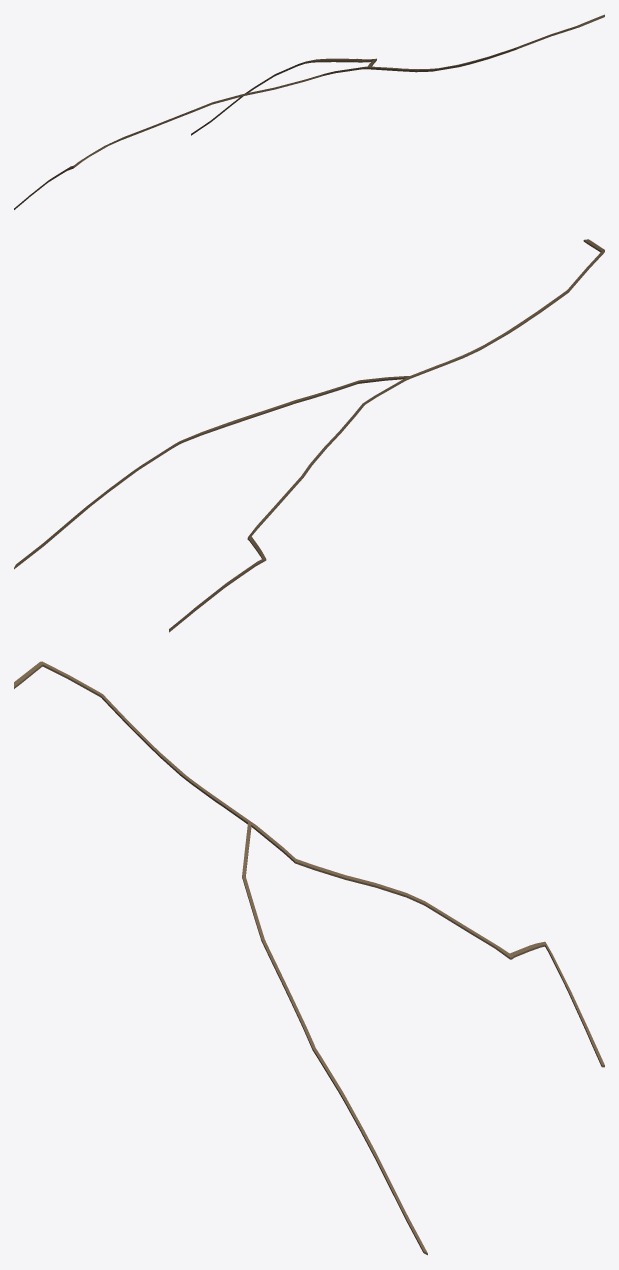
File: 17-109470-59472.bc4eba79.glb
The picture shows the model from 3 angles, top to bottom: view 1: azimuth 90°, elevation 25°; view 2: azimuth 150°, elevation 25°; view 3: azimuth 270°, elevation 25°; orthographic projection. The views are drawn at different scales.
Size of the model in its own units: 186 by 126 by 192.
